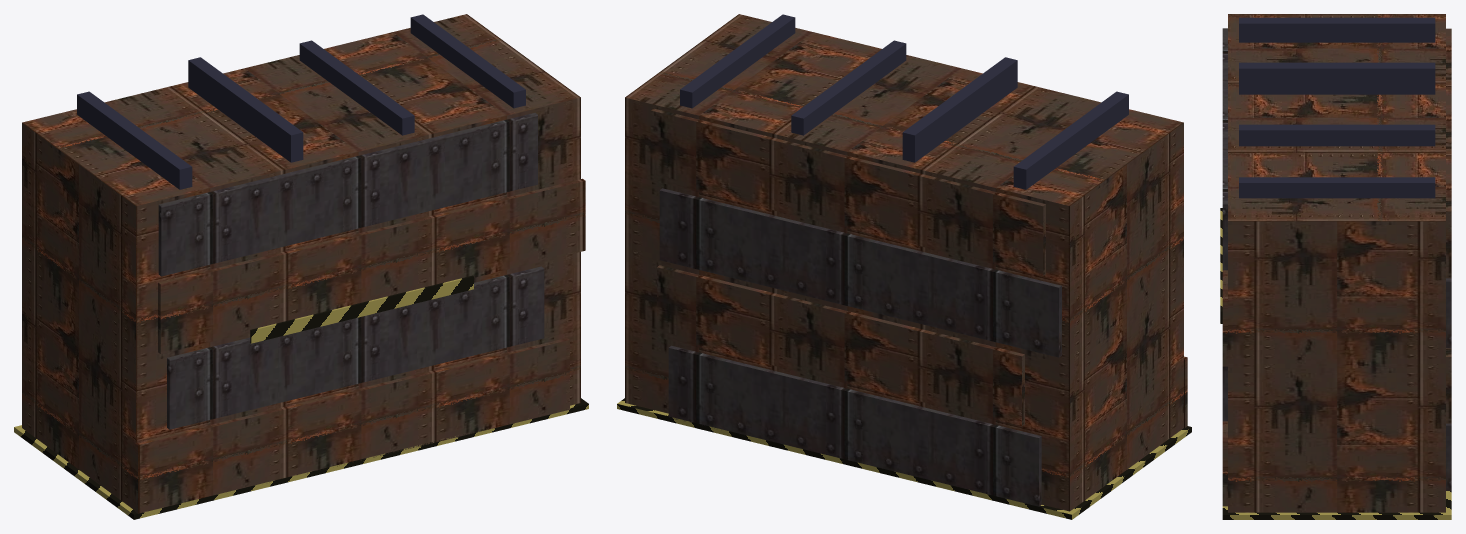
Rendered from prop_scrap_wall_6m.glb.
The picture shows the model from 3 angles, left to right: view 1: azimuth 30°, elevation 25°; view 2: azimuth 150°, elevation 25°; view 3: azimuth 270°, elevation 25°; orthographic projection. The views are drawn at different scales.
Visible parts, largest first — view 1: prop_scrap_wall_6m; view 2: prop_scrap_wall_6m; view 3: prop_scrap_wall_6m.
Boxes of the visible parts, x1=… form: prop_scrap_wall_6m: x1=14, y1=14, x2=588, y2=519; prop_scrap_wall_6m: x1=617, y1=14, x2=1191, y2=519; prop_scrap_wall_6m: x1=1220, y1=14, x2=1451, y2=519.
Bounding box in the file's own units: 9.2 × 6.53 × 4.24.
Materials: 4 (3 with a texture image).
